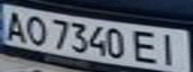0: (106, 25, 130, 61)
3: (66, 20, 90, 55)
4: (87, 24, 109, 57)
7: (45, 16, 72, 51)
A: (0, 8, 30, 43)
E: (130, 28, 163, 65)
I: (154, 30, 187, 68)
O: (21, 12, 48, 46)
